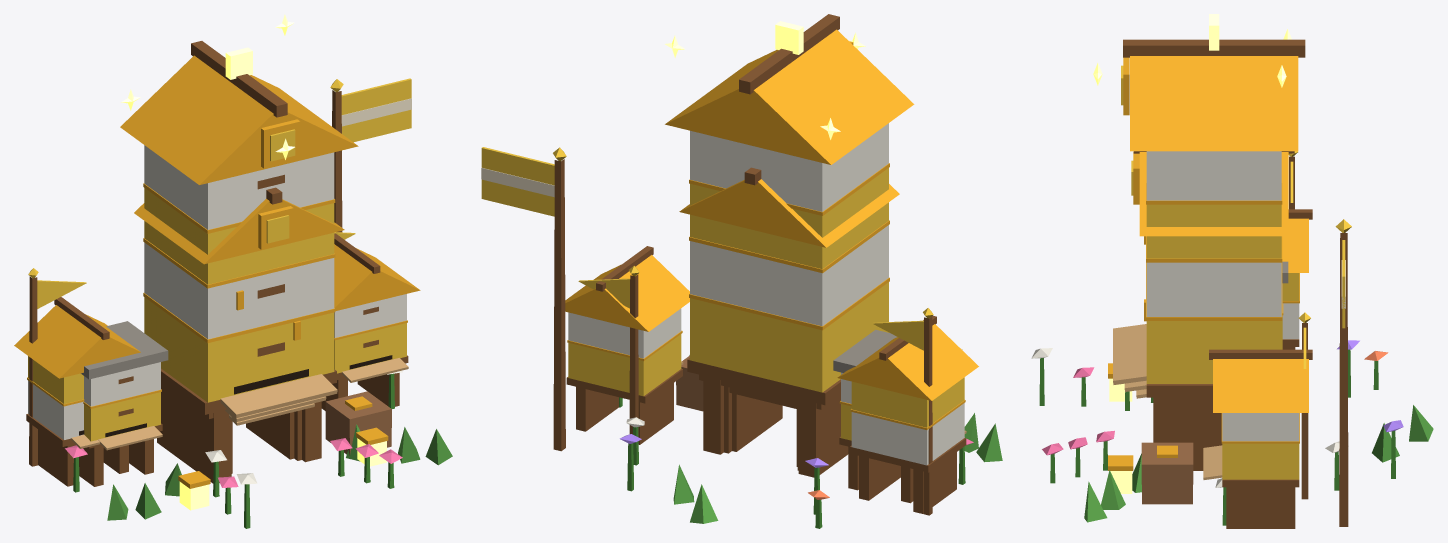
Rendered from bee-apiary-lv-blocky.glb.
3 views of the same model, side by side, from view 1: azimuth 30°, elevation 25°; view 2: azimuth 150°, elevation 25°; view 3: azimuth 270°, elevation 25° (orthographic). The views are drawn at different scales.
Visible parts, largest first — view 1: lv3, lv2, lv1; view 2: lv3, lv2, lv1; view 3: lv3, lv2, lv1.
Boxes of the visible parts, box(x1,y1,x2,y2) form: lv3: box(14, 14, 452, 528); lv2: box(79, 187, 420, 519); lv1: box(165, 403, 360, 497); lv3: box(481, 14, 1002, 528); lv2: box(578, 167, 978, 514); lv1: box(729, 387, 797, 466); lv3: box(1031, 14, 1433, 528); lv2: box(1068, 151, 1399, 509); lv1: box(1096, 389, 1153, 492).
Bounding box in the file's own units: 1.95 × 1.82 × 1.55.
